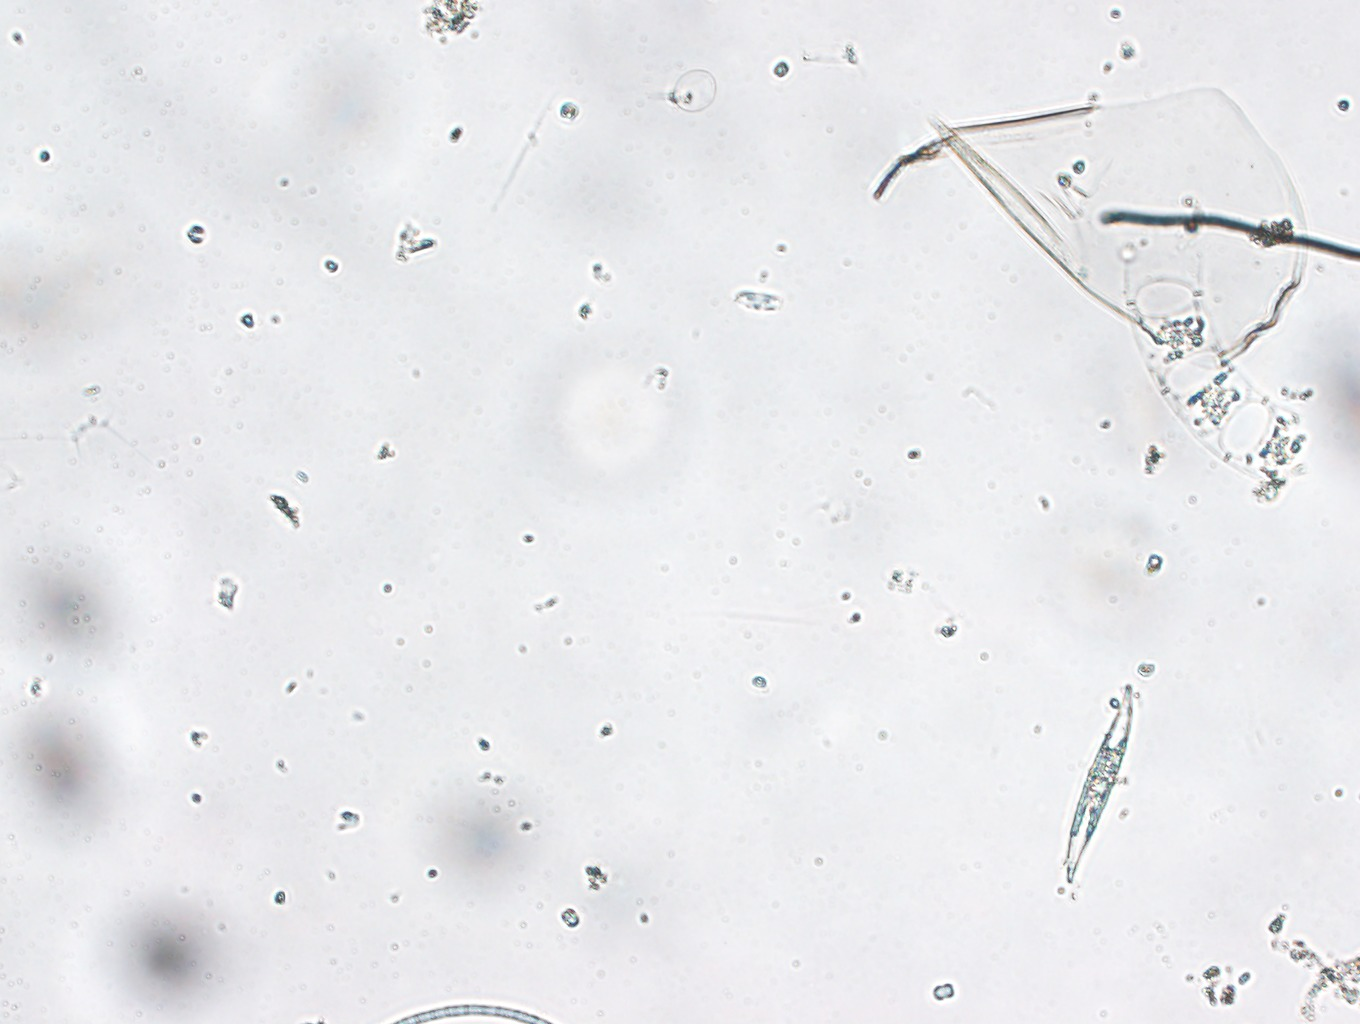eucampia: (1123, 256, 1309, 490)
pleurosigma pelagicum: (1064, 683, 1133, 885)
